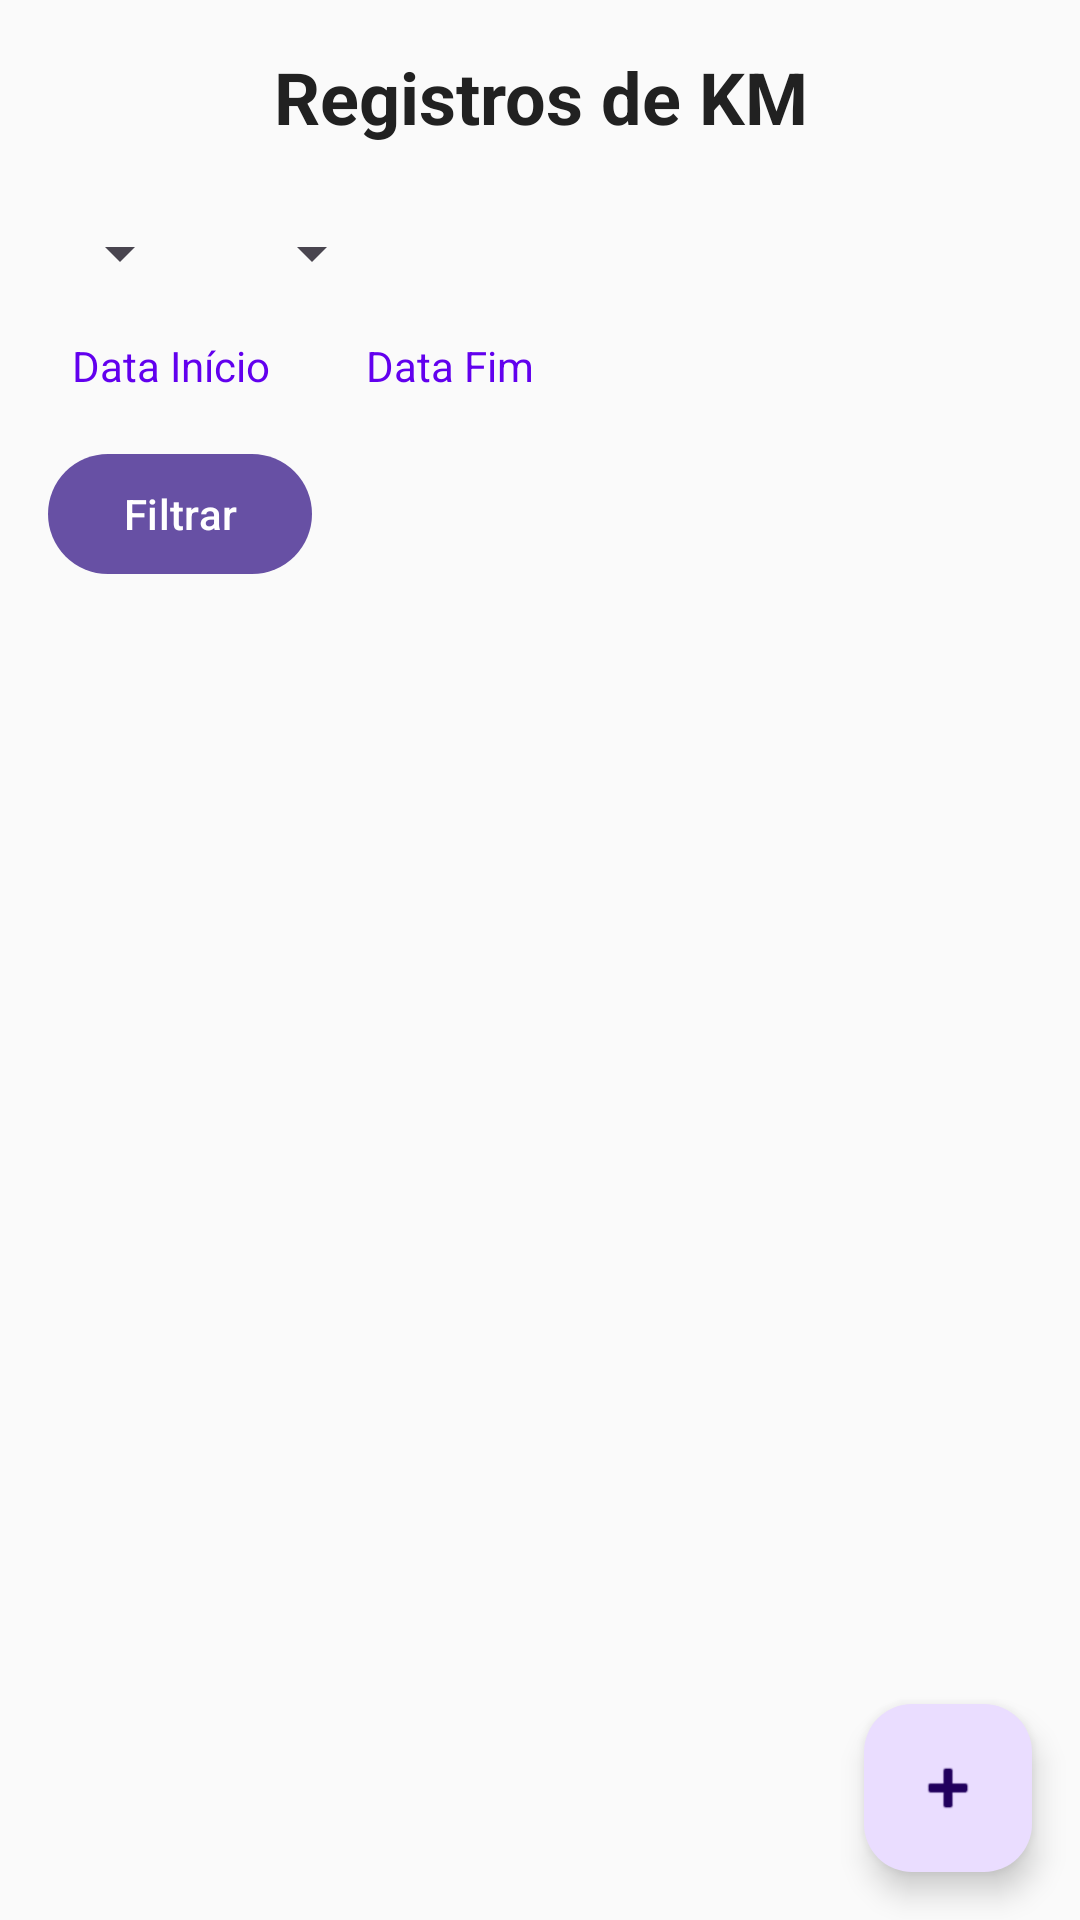

Named icons in this screenshot (1080*1920) and their bounding boxes, (x1, y1, x2, y2):
Adicionar registro: (864, 1704, 1032, 1872)
